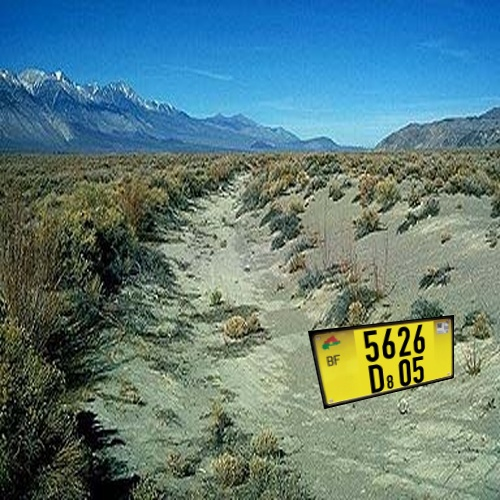plate: (302, 310, 472, 418)
